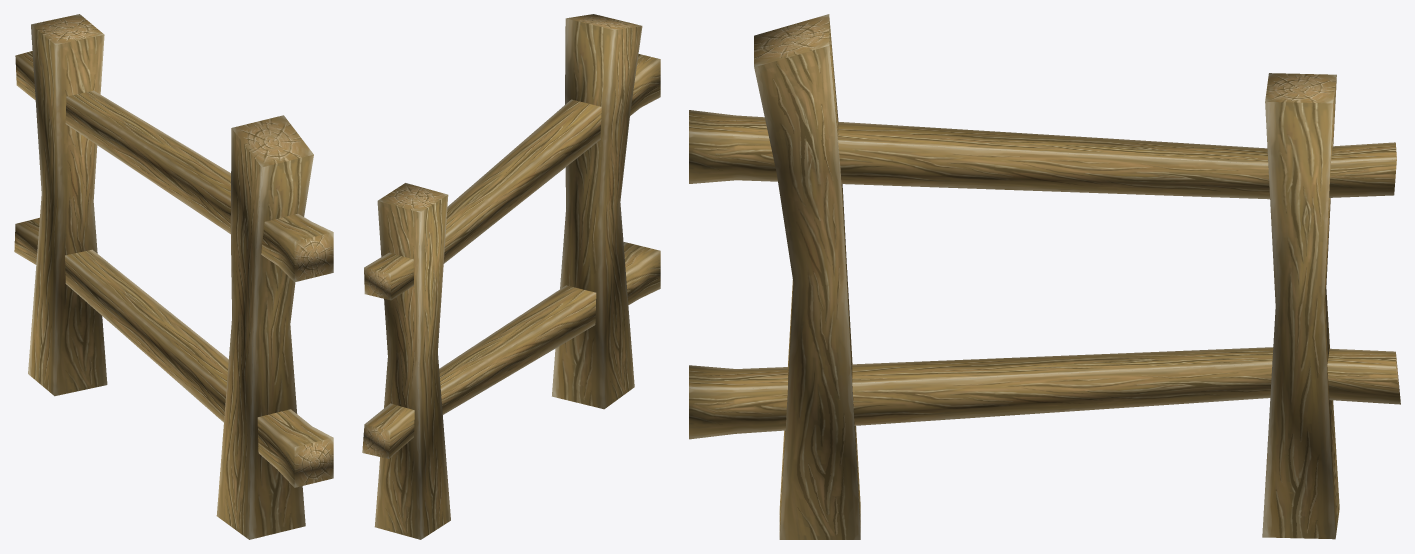
File: fence02.fbx
3 renders of one model, left to right at view 1: azimuth 30°, elevation 25°; view 2: azimuth 150°, elevation 25°; view 3: azimuth 270°, elevation 25°, orthographic. The views are drawn at different scales.
Parts seen in each view (by area): view 1: fence02; view 2: fence02; view 3: fence02.
Part boxes in pixels (left/top/right/bottom): fence02: left=14, top=14, right=333, bottom=539; fence02: left=362, top=14, right=660, bottom=539; fence02: left=689, top=14, right=1400, bottom=539.
Bounding box in the file's own units: 0.1886 × 1.27 × 1.66.
